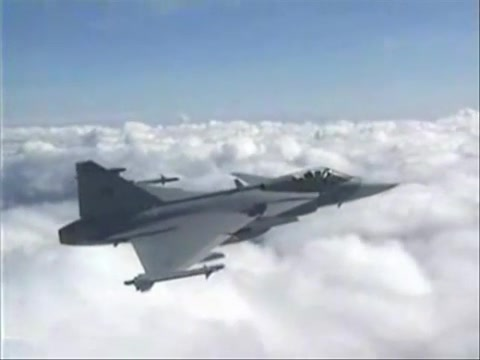aeroplane: (59, 160, 401, 294)
